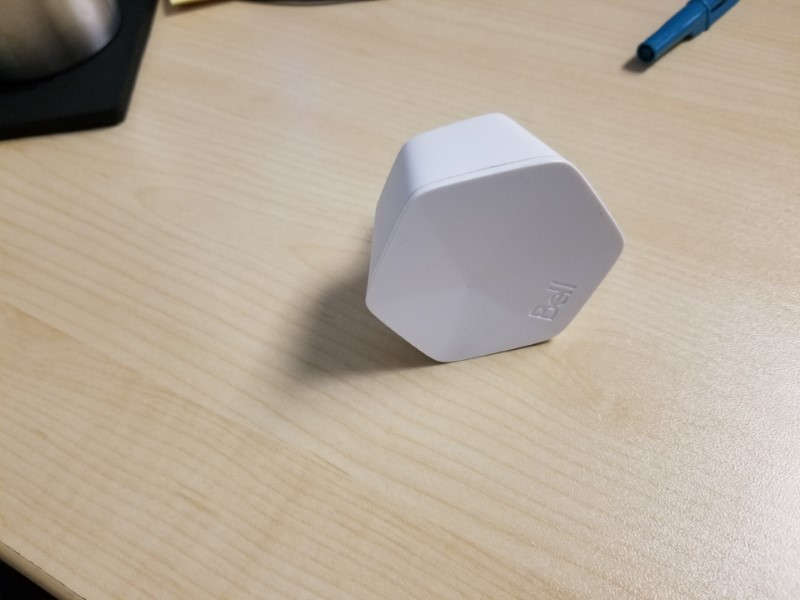pod: (358, 108, 639, 369)
